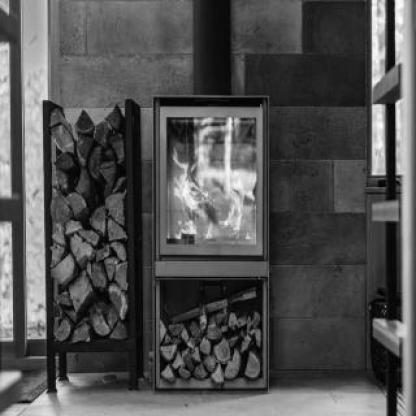fire: (166, 139, 255, 243)
